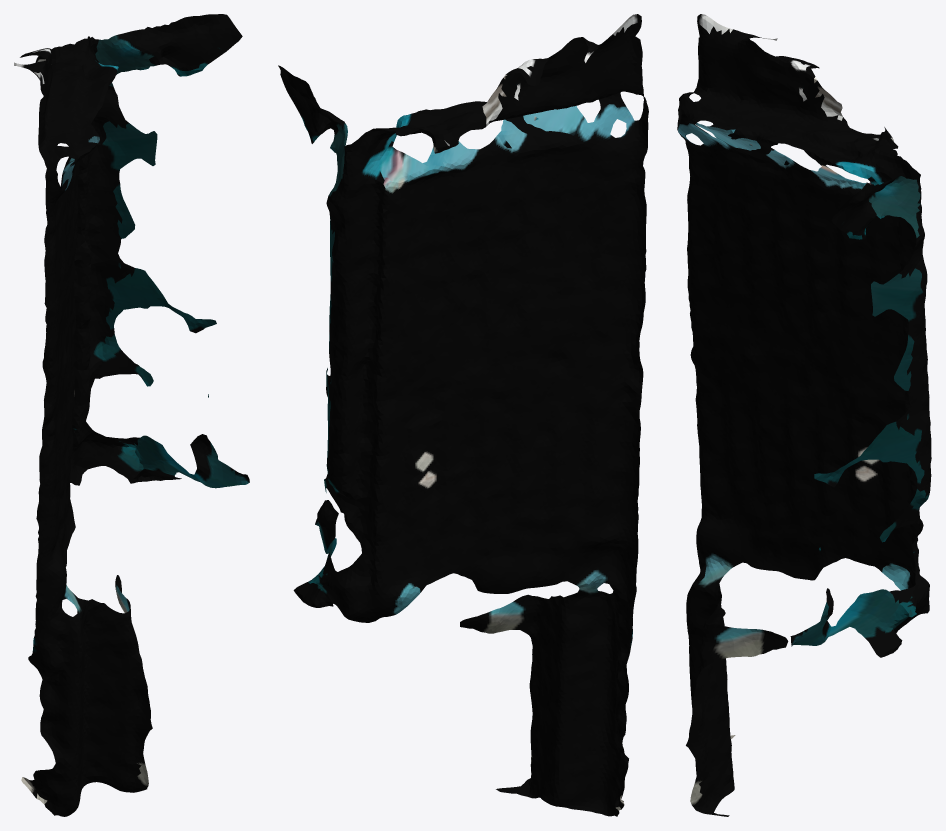
File: texturedMesh.obj
3 views of the same model, side by side, from view 1: azimuth 30°, elevation 25°; view 2: azimuth 150°, elevation 25°; view 3: azimuth 270°, elevation 25° (orthographic). The views are drawn at different scales.
Visible parts, largest first — view 1: TexturedMesh; view 2: TexturedMesh; view 3: TexturedMesh.
Part boxes in pixels (box(x1,y1,x2,y2)): TexturedMesh: box(14, 14, 249, 816); TexturedMesh: box(278, 14, 648, 816); TexturedMesh: box(677, 14, 931, 816).
Bounding box in the file's own units: 0.6687 × 1.77 × 0.5389.
Materials: 1 (1 with a texture image).
